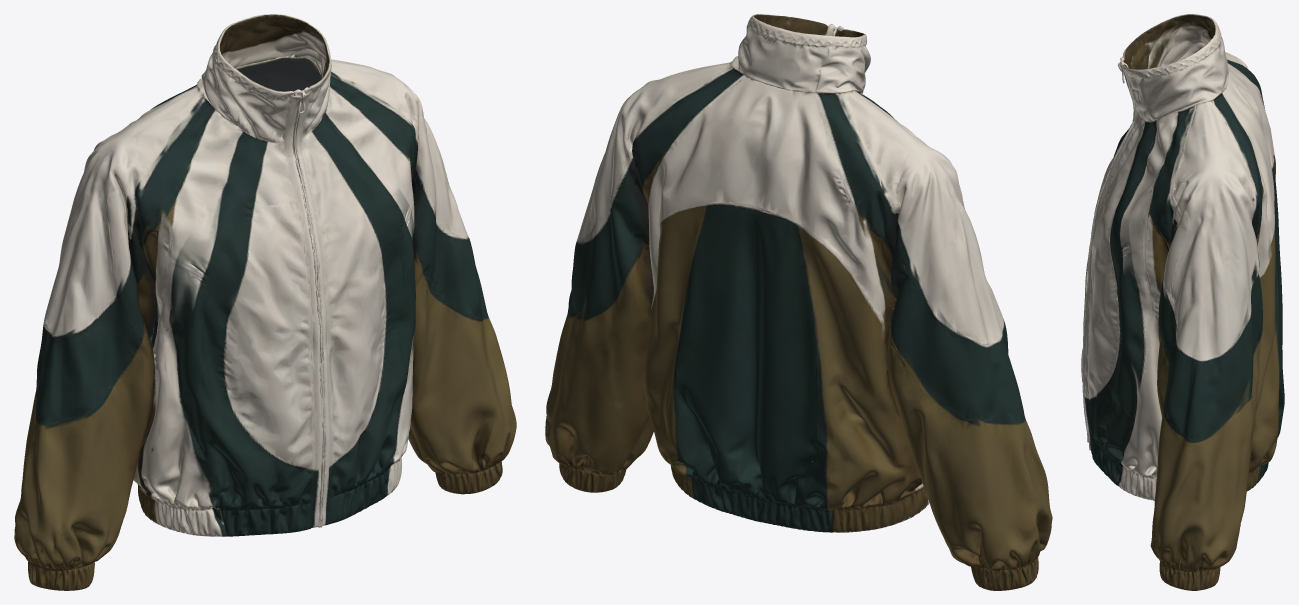
The model's file is suit-detour-top.glb.
The picture shows the model from 3 angles, left to right: view 1: azimuth 30°, elevation 25°; view 2: azimuth 150°, elevation 25°; view 3: azimuth 270°, elevation 25°; orthographic projection. The views are drawn at different scales.
Parts seen in each view (by area): view 1: tripo_node_dd9c2ae9-9d97-466d-b3cb-8f124a2da880; view 2: tripo_node_dd9c2ae9-9d97-466d-b3cb-8f124a2da880; view 3: tripo_node_dd9c2ae9-9d97-466d-b3cb-8f124a2da880.
Part boxes in pixels (left/top/right/bottom): tripo_node_dd9c2ae9-9d97-466d-b3cb-8f124a2da880: left=14, top=14, right=516, bottom=590; tripo_node_dd9c2ae9-9d97-466d-b3cb-8f124a2da880: left=545, top=14, right=1052, bottom=590; tripo_node_dd9c2ae9-9d97-466d-b3cb-8f124a2da880: left=1081, top=14, right=1284, bottom=590.
Size of the model in its own units: 0.8345 by 0.8327 by 0.3304.
1 material, 1 textured.
